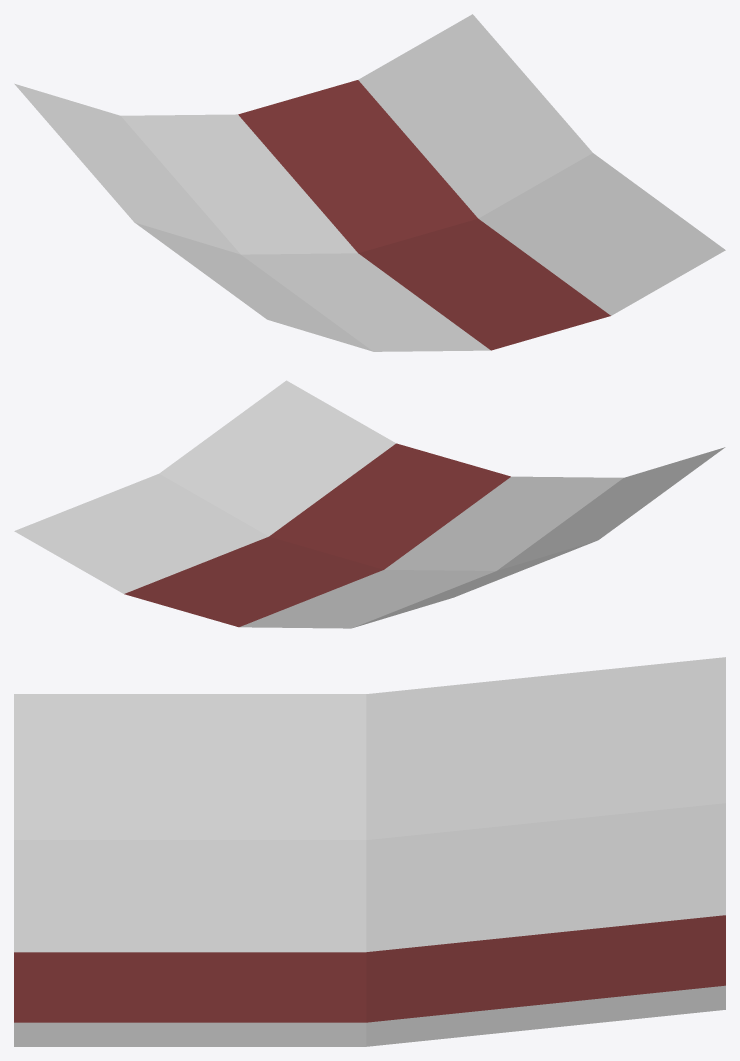
The model's file is TrashShieldLarge.dae.
3 views of the same model, one above another, from view 1: azimuth 30°, elevation 25°; view 2: azimuth 150°, elevation 25°; view 3: azimuth 270°, elevation 25° (orthographic). The views are drawn at different scales.
Visible parts, largest first — view 1: TrashShipShieldLarge; view 2: TrashShipShieldLarge; view 3: TrashShipShieldLarge.
Part boxes in pixels (x1,y1,x2,y2): TrashShipShieldLarge: [14, 14, 725, 351]; TrashShipShieldLarge: [14, 380, 725, 628]; TrashShipShieldLarge: [14, 657, 725, 1046].
Bounding box in the file's own units: 2.06 × 2.02 × 0.5026.
